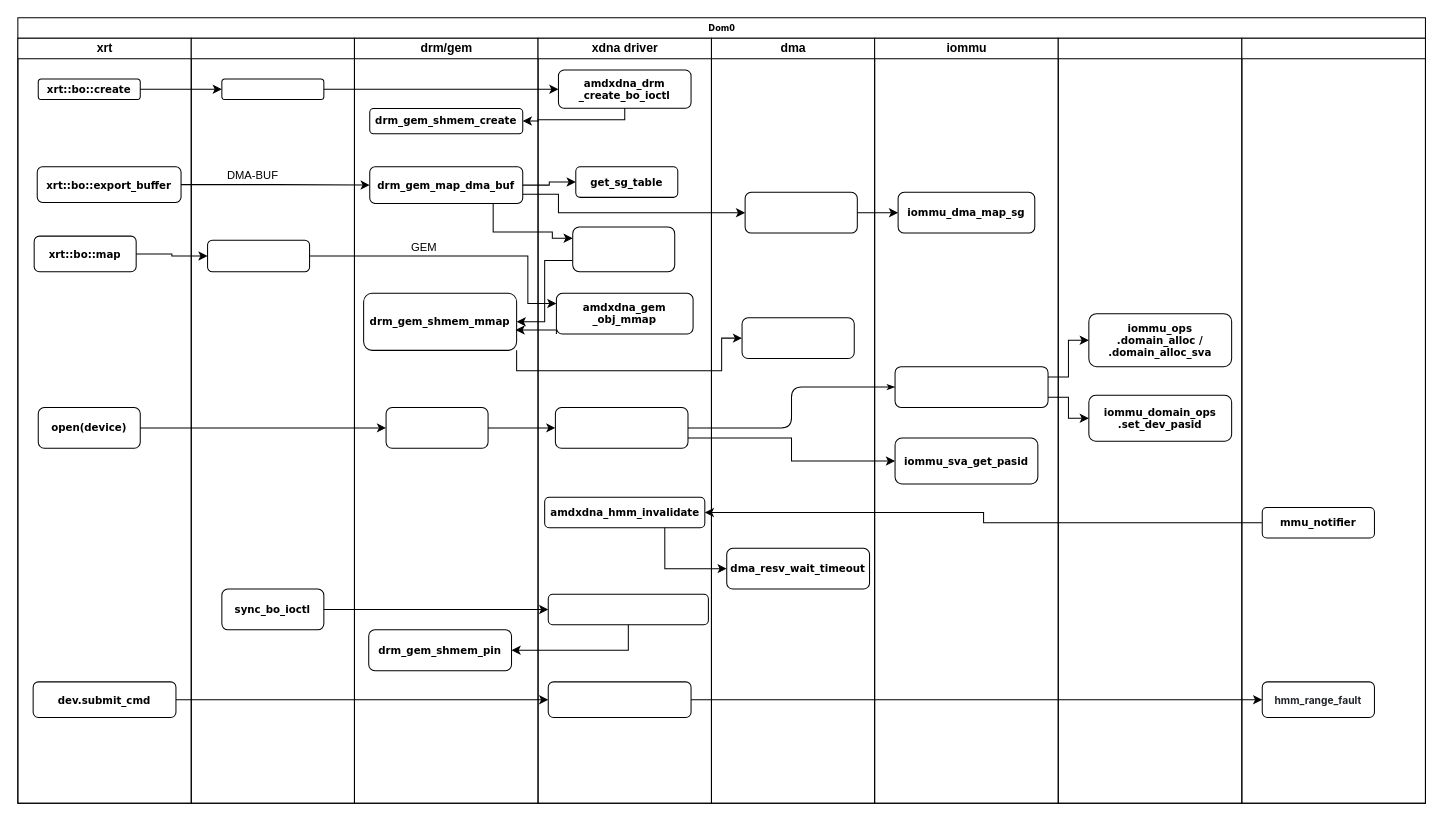
Image size: 1443x821. Some labels were removed from this diagram. The box of each missing label's shape, as (x1, y1, x2, y2) in pixels:
aie2_populate_range: (547, 681, 691, 718)
amdxdna_drm_open: (554, 406, 688, 448)
amdxdna_gem _dmabuf_mmap: (572, 226, 675, 272)
amdxdna_gem_pin: (547, 593, 708, 625)
create_bo_ioctl: (221, 78, 324, 99)
dma_buf_mmap: (741, 317, 854, 359)
dma_map_sgtable: (744, 191, 857, 233)
drm_driver.open: (385, 406, 488, 448)
iommu driver: (1057, 37, 1242, 803)
iommu_sva_bind_device: (894, 366, 1048, 407)
mmap_bo: (207, 239, 310, 272)
Other kernel modules: (1241, 37, 1425, 803)
shim: (190, 37, 354, 803)
